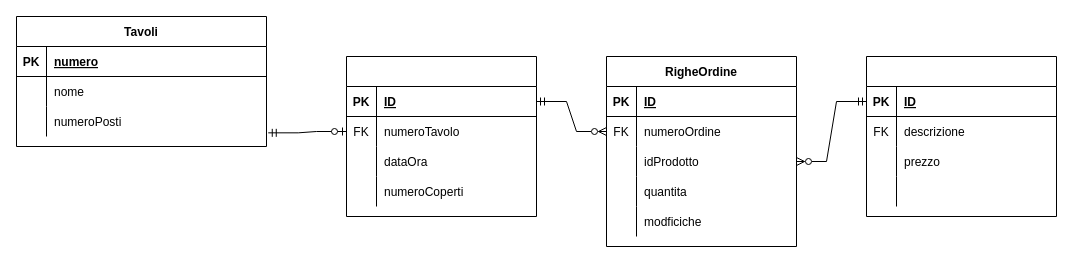
Some shapes in this 1073 by 263 pixel diagram are drawn without their labels. Here are the shapes that lost their labels. From the top down, the box of each, then its label:
(346, 56, 536, 216): Ordini
(866, 56, 1056, 216): Prodotti
